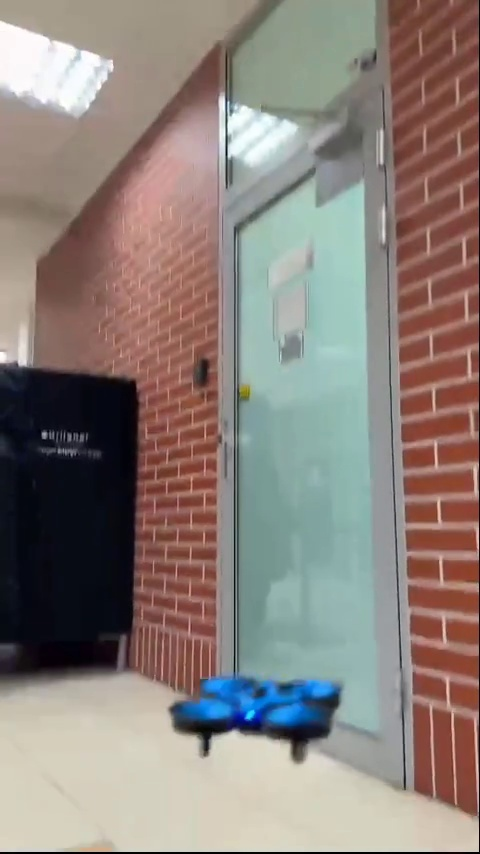drone: (171, 673, 342, 757)
